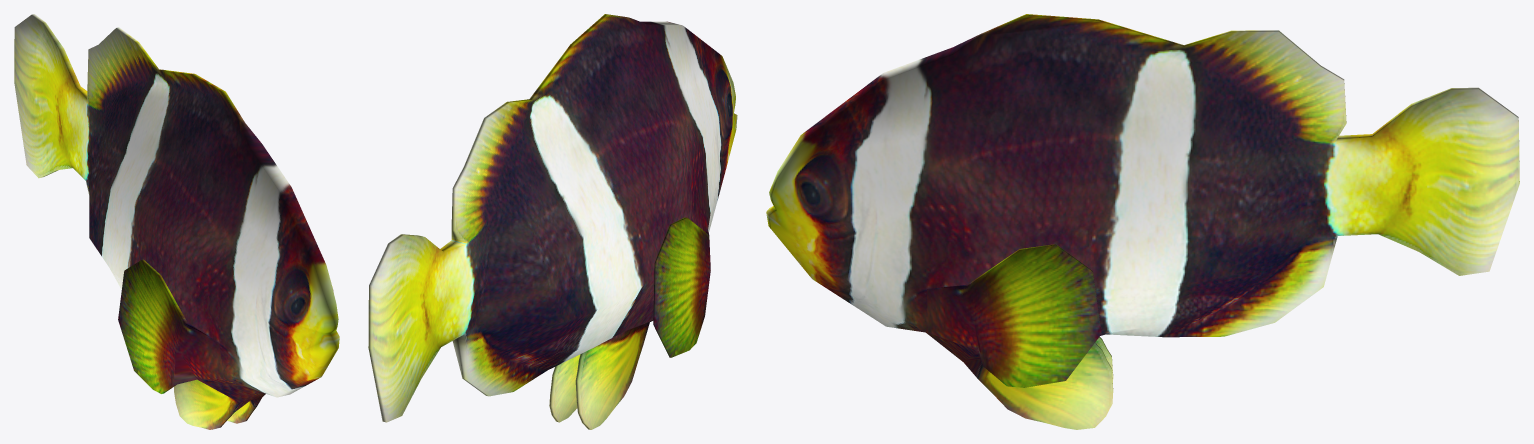
Rendered from fish11.glb.
3 views of the same model, side by side, from view 1: azimuth 30°, elevation 25°; view 2: azimuth 150°, elevation 25°; view 3: azimuth 270°, elevation 25° (orthographic). The views are drawn at different scales.
Parts seen in each view (by area): view 1: Asset3DLoader.sceneRoot; view 2: Asset3DLoader.sceneRoot; view 3: Asset3DLoader.sceneRoot.
Part boxes in pixels (x1,y1,x2,y2): Asset3DLoader.sceneRoot: [14, 14, 339, 429]; Asset3DLoader.sceneRoot: [368, 14, 737, 429]; Asset3DLoader.sceneRoot: [766, 14, 1519, 429].
Size of the model in its own units: 135 by 293 by 493.
Materials: 1 (1 with a texture image).
